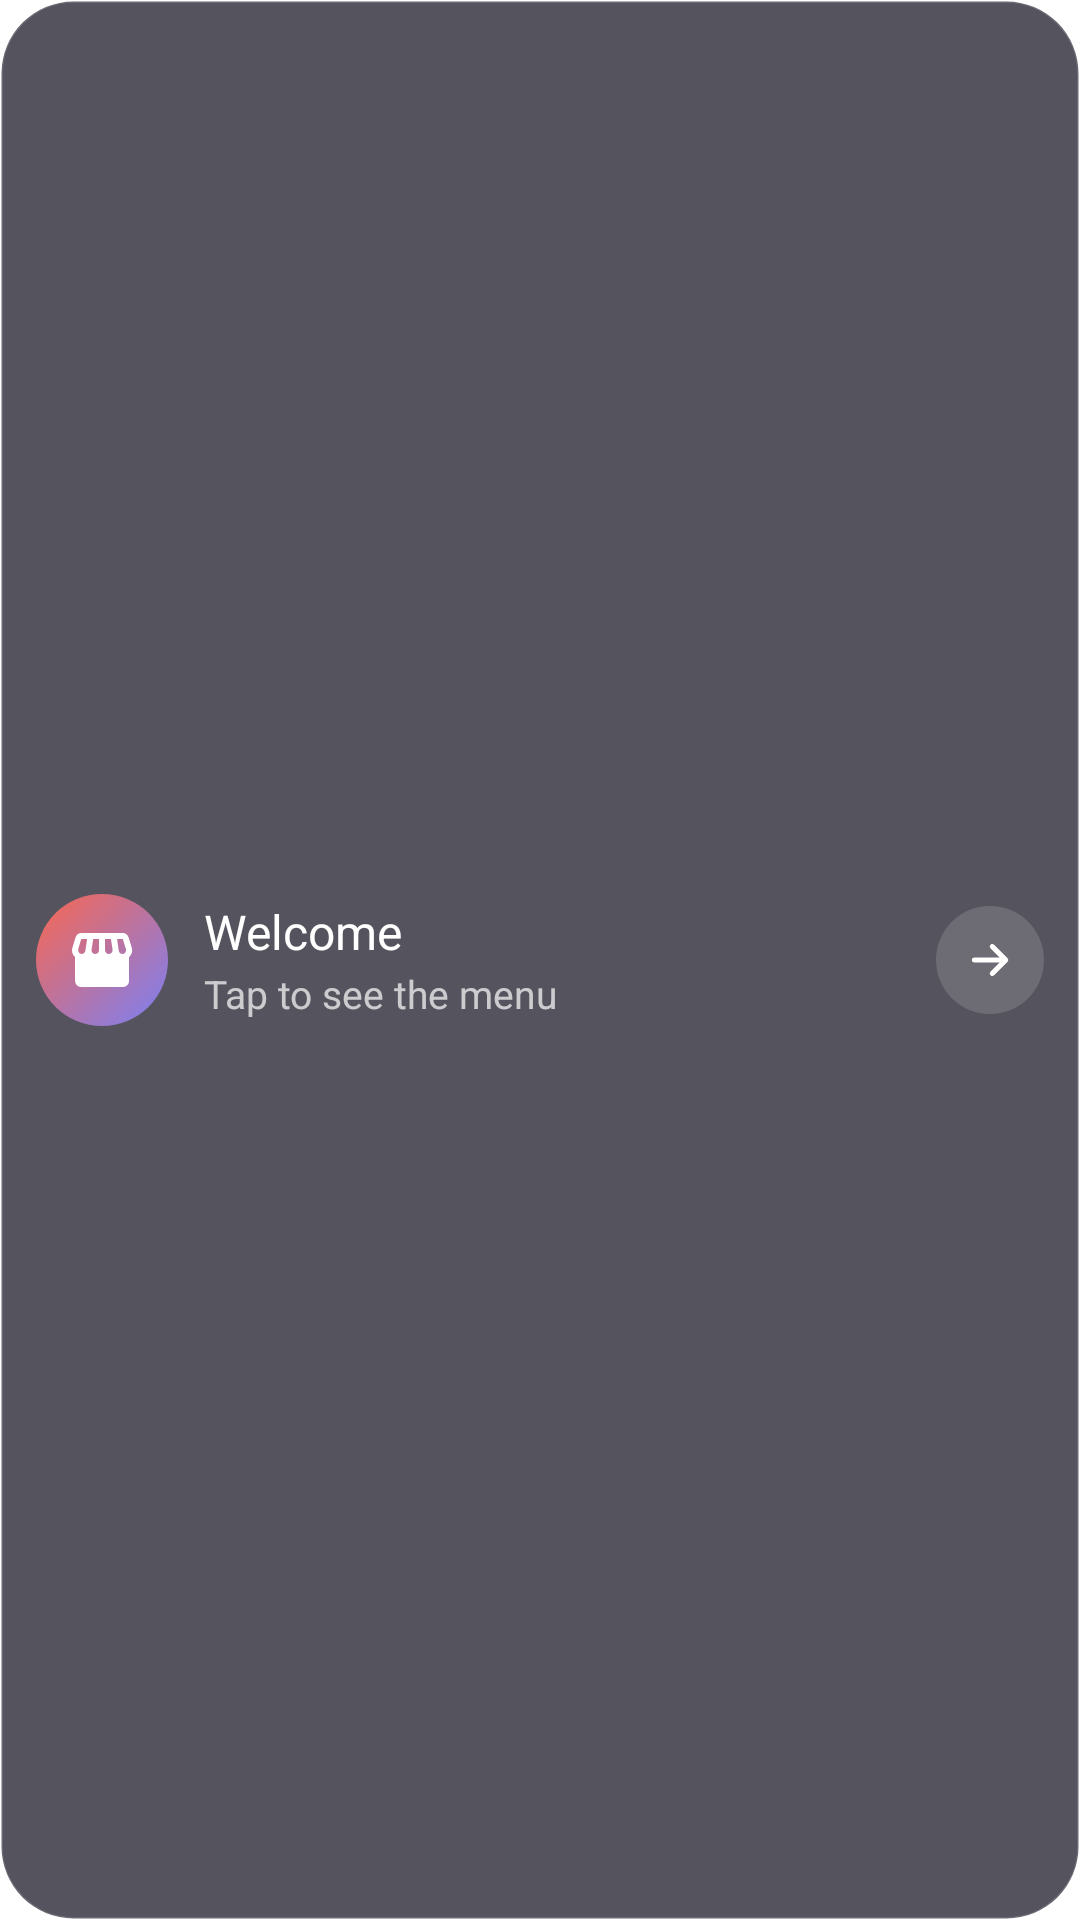

Point at icon controls on the screen. Image size 1080px×1920px, points as [x,y].
guest arrow: [990,960]
guest storefront: [102,960]
